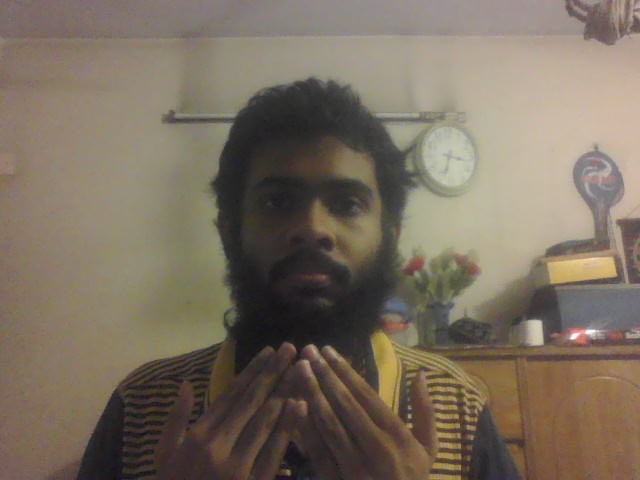Thank You: (169, 341, 438, 480)
